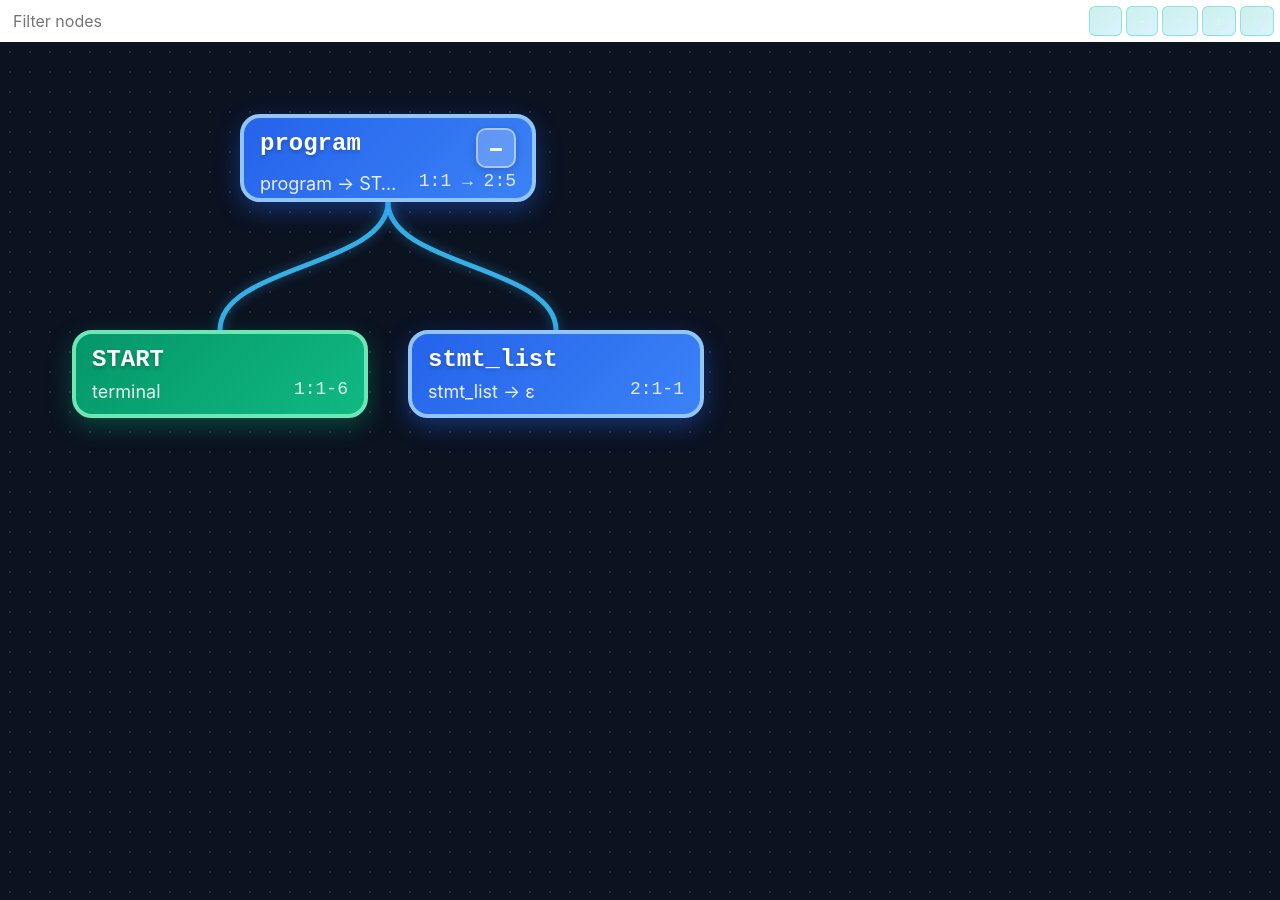
Test: TreeView › collapses and expands nodes
Click the button named "Collapse node": (496,148) [476, 128, 516, 168]
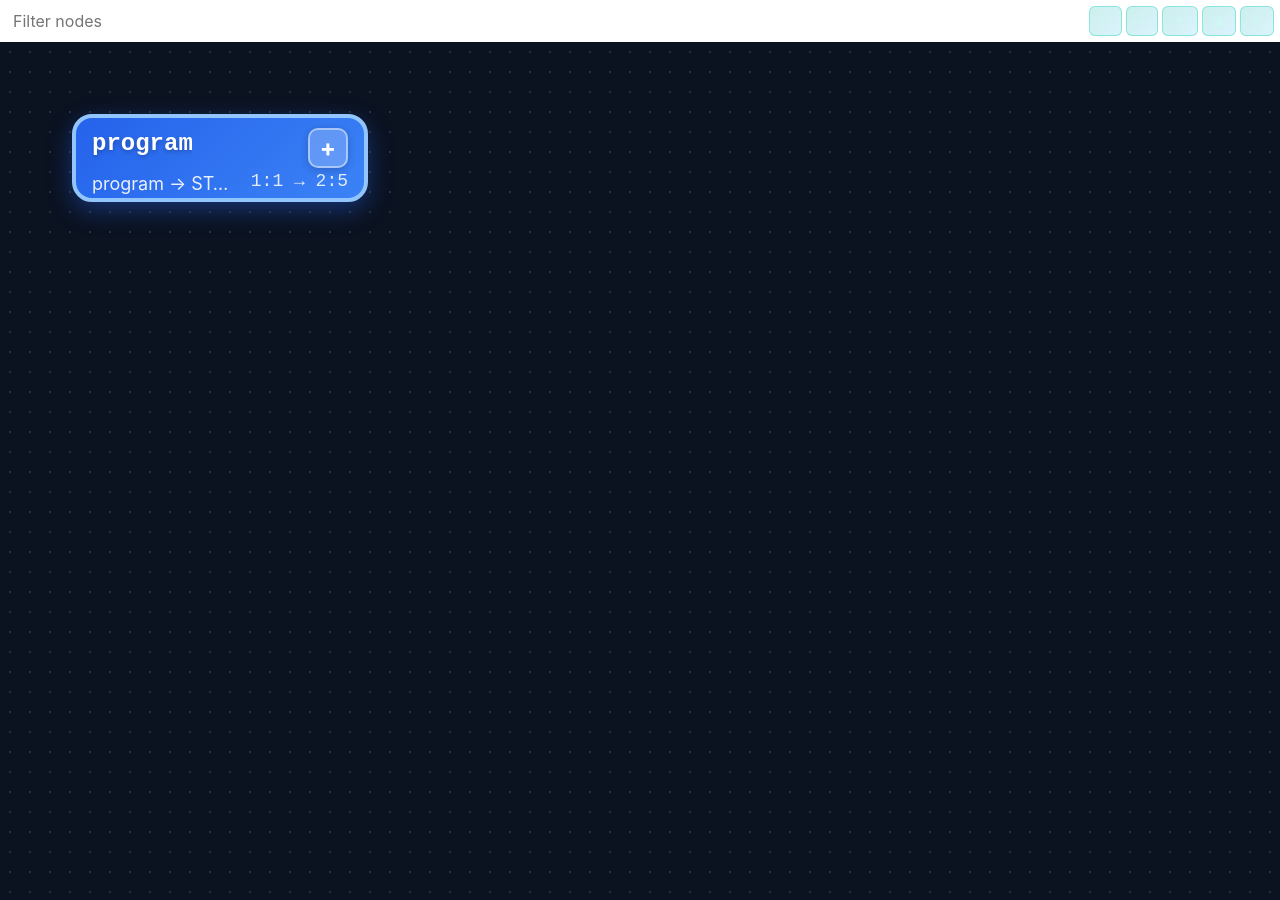
Click the button named "Expand node": (328,148) [308, 128, 348, 168]
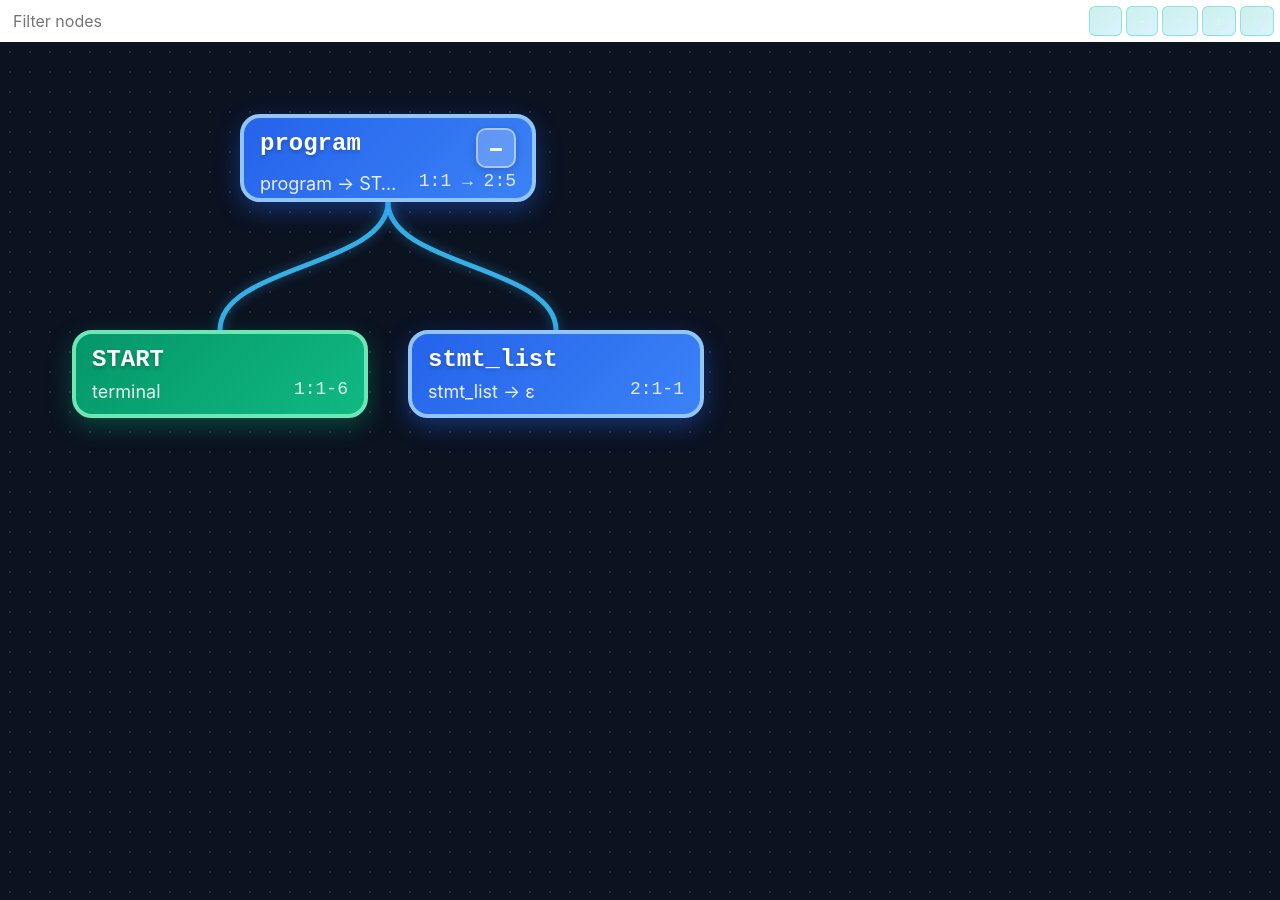
Now the text "START" is shown, box [92, 344, 164, 376]
